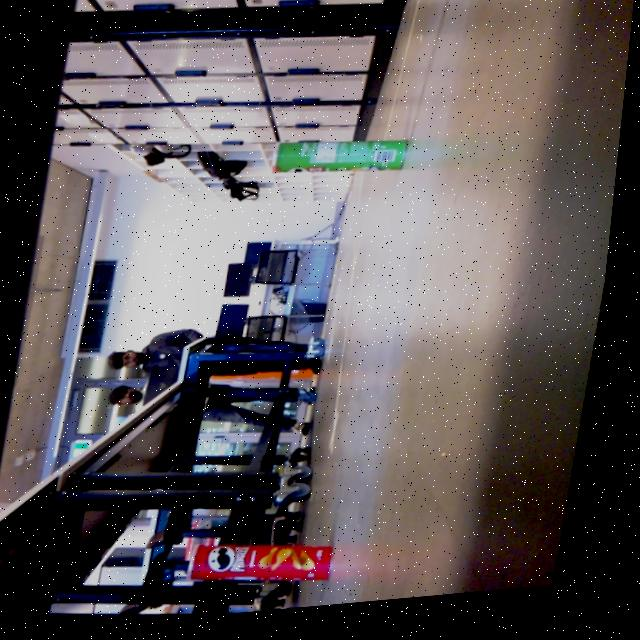greenpringles: (255, 123, 429, 198)
redpringles: (182, 524, 367, 609)
